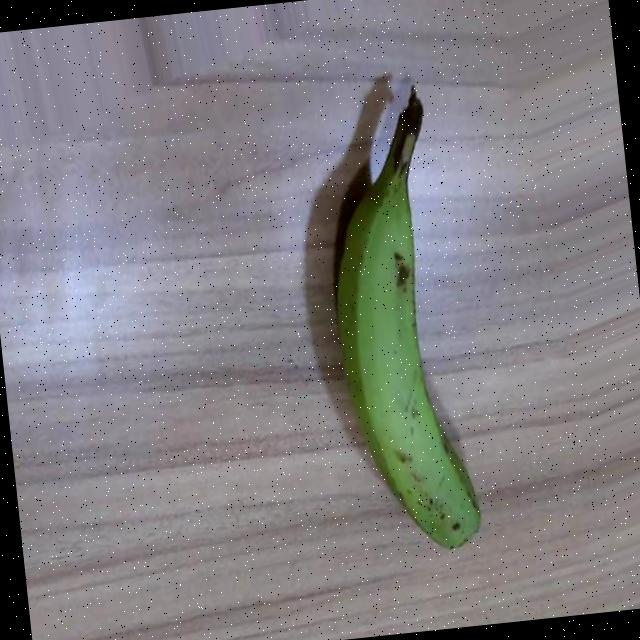Unripe: (314, 88, 485, 558)
